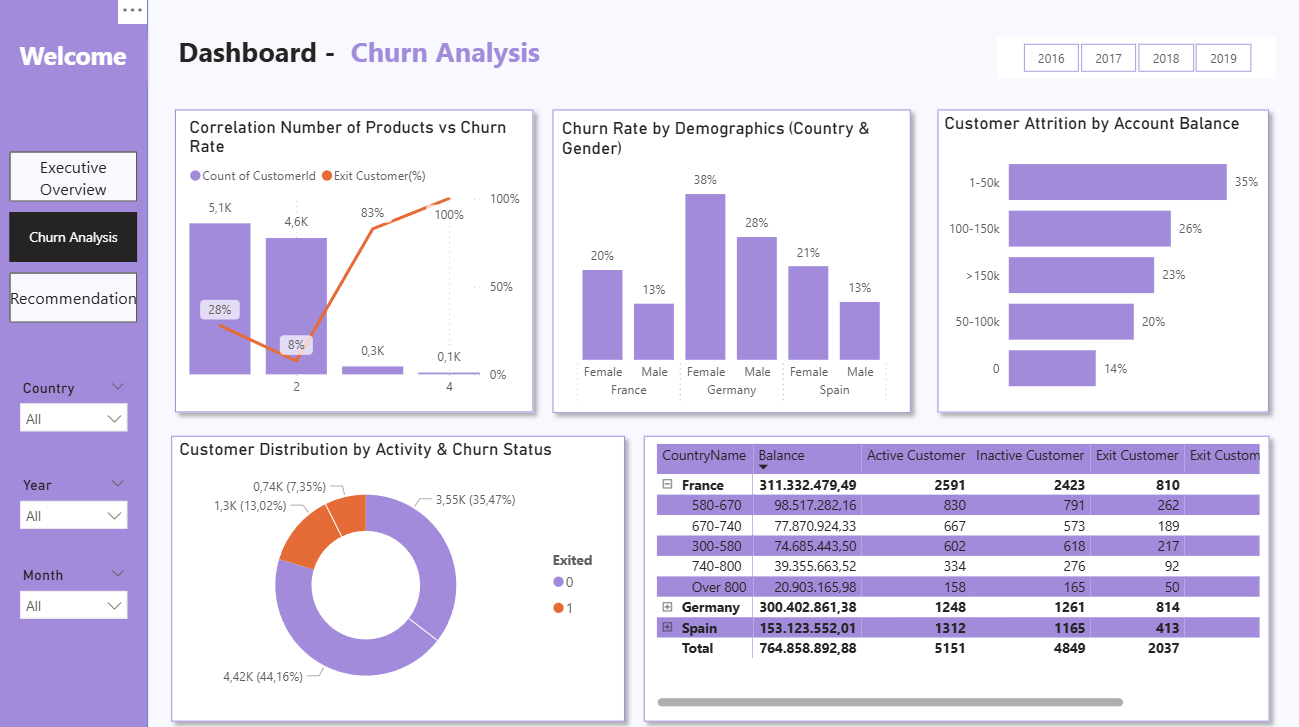

What the dashboard file says about the page in this screenshot:
{"tool":"powerbi","page":{"name":"Churn Analysis","canvas":[1280,720],"ordinal":1},"visuals":[{"type":"group","id":"g1","title":"Group 1","box":[0,0,148.4,720.3],"z":0},{"type":"shape","box":[0,0,148.4,720.3],"z":0,"group":"g1"},{"type":"textbox","box":[172.9,33.6,541.7,57.5],"z":0,"group":"g2"},{"type":"textbox","box":[0,39.1,148.4,50],"z":1000,"group":"g1"},{"type":"slicer","fields":{"Values":["Dim_Date.Year"]},"box":[979.2,41.9,272.8,41],"z":1000,"group":"g2"},{"type":"slicer","fields":{"Values":["Dim_Date.MonthName"]},"box":[12.5,554.7,125,71.9],"z":1000},{"type":"group","id":"g2","title":"Group 2","box":[172.9,33.6,1079,57.5],"z":2000},{"type":"slicer","fields":{"Values":["Dim_Date.Year"]},"box":[12.5,467.2,125,71.9],"z":2000,"group":"g1"},{"type":"group","id":"g3","title":"Group 3","box":[165.6,104.3,368.7,314.4],"z":3000},{"type":"shape","box":[165.6,104.3,368.7,314.4],"z":3000,"group":"g3"},{"type":"shape","box":[534.3,104.3,368.6,314.9],"z":3000,"group":"g6"},{"type":"shape","box":[911.3,104.3,342.3,314.4],"z":3000,"group":"g12"},{"type":"slicer","fields":{"Values":["dim_geography.CountryName"]},"box":[12.5,371.9,125,73.4],"z":3000,"group":"g1"},{"type":"shape","box":[161.4,423,461.9,297.7],"z":3000,"group":"g5"},{"type":"shape","box":[623.3,423,630.3,297.7],"z":3000,"group":"g9"},{"type":"group","id":"g4","title":"Group 6","box":[534.3,104.3,368.7,314.4],"z":4000},{"type":"pageNavigator","box":[12.5,154.7,125,168.8],"z":4000,"group":"g1"},{"type":"group","id":"g5","title":"Group 4","box":[161.4,423,461.9,297.7],"z":4000,"group":"g8"},{"type":"group","id":"g6","title":"Group 4","box":[534.3,104.3,368.7,314.4],"z":5000,"group":"g4"},{"type":"group","id":"g7","title":"Group 7","box":[911.3,104.3,342.3,314.4],"z":5000},{"type":"group","id":"g8","title":"Group 8","box":[161.4,423,461.9,297.7],"z":6000},{"type":"group","id":"g9","title":"Group 4","box":[623.3,423,630.3,297.7],"z":6000,"group":"g11"},{"type":"group","id":"g10","title":"Group 5","box":[911.3,104.3,342.3,314.4],"z":7000,"group":"g7"},{"type":"group","id":"g11","title":"Group 9","box":[623.3,423,630.3,297.7],"z":7000},{"type":"pivotTable","fields":{"Rows":["dim_geography.CountryName","fact_churn.Credit Type"],"Values":["Sum(fact_churn.Balance)","Measure.Active Customer","Measure.Inactive Customer","Measure.Exit Customer","Measure.%Exit Customer","Measure.Retain Customer"]},"box":[640,435.5,599.7,267.1],"z":8000,"group":"g11"},{"type":"clusteredColumnChart","title":"Churn Rate by Demographics (Country & Gender)","fields":{"Category":["dim_geography.CountryName","dim_gender.GenderName"],"Y":["Measure.%Exit Customer"]},"box":[548.2,121,342.3,288],"z":9000,"group":"g4"},{"type":"group","id":"g12","title":"Group 4","box":[911.3,104.3,342.3,314.4],"z":10000,"group":"g10"},{"type":"lineStackedColumnComboChart","title":"Correlation Number of Products vs Churn Rate","fields":{"Category":["fact_churn.NumOfProducts"],"Y2":["Measure.%Exit Customer"],"Y":["CountNonNull(fact_churn.CustomerId)"]},"box":[183.7,119.6,333.9,282.4],"z":10000,"group":"g3"},{"type":"barChart","title":"Customer Attrition by Account Balance","fields":{"Category":["fact_churn.Balance Group"],"Y":["Measure.%Exit Customer"]},"box":[922.4,116.8,317.2,292.2],"z":11000,"group":"g7"},{"type":"donutChart","title":"Customer Distribution by Activity & Churn Status","fields":{"Category":["fact_churn.Exited"],"Y":["CountNonNull(fact_churn.CustomerId)"],"Series":["fact_churn.IsActiveMember"]},"box":[173.9,435.5,432.7,267.1],"z":12000,"group":"g8"}]}

Visuals, with their boxes on the page's 1280x720 design canvas (x1, y1, x2, y2). These are canvas units, not pixel positions in the 1299x727 screenshot, which may show the page scaled, cropped or inside an application window:
"Group 1" group: bbox=[0, 0, 148, 720]
shape: bbox=[0, 0, 148, 720]
textbox: bbox=[173, 34, 715, 91]
textbox: bbox=[0, 39, 148, 89]
slicer - Dim_Date.Year: bbox=[979, 42, 1252, 83]
slicer - Dim_Date.MonthName: bbox=[12, 555, 138, 627]
"Group 2" group: bbox=[173, 34, 1252, 91]
slicer - Dim_Date.Year: bbox=[12, 467, 138, 539]
"Group 3" group: bbox=[166, 104, 534, 419]
shape: bbox=[166, 104, 534, 419]
shape: bbox=[534, 104, 903, 419]
shape: bbox=[911, 104, 1254, 419]
slicer - dim_geography.CountryName: bbox=[12, 372, 138, 445]
shape: bbox=[161, 423, 623, 721]
shape: bbox=[623, 423, 1254, 721]
"Group 6" group: bbox=[534, 104, 903, 419]
pageNavigator: bbox=[12, 155, 138, 324]
"Group 4" group: bbox=[161, 423, 623, 721]
"Group 4" group: bbox=[534, 104, 903, 419]
"Group 7" group: bbox=[911, 104, 1254, 419]
"Group 8" group: bbox=[161, 423, 623, 721]
"Group 4" group: bbox=[623, 423, 1254, 721]
"Group 5" group: bbox=[911, 104, 1254, 419]
"Group 9" group: bbox=[623, 423, 1254, 721]
pivotTable - dim_geography.CountryName x fact_churn.Credit Type: bbox=[640, 436, 1240, 703]
"Churn Rate by Demographics (Country & Gender)" clusteredColumnChart: bbox=[548, 121, 890, 409]
"Group 4" group: bbox=[911, 104, 1254, 419]
"Correlation Number of Products vs Churn Rate" lineStackedColumnComboChart: bbox=[184, 120, 518, 402]
"Customer Attrition by Account Balance" barChart: bbox=[922, 117, 1240, 409]
"Customer Distribution by Activity & Churn Status" donutChart: bbox=[174, 436, 607, 703]
